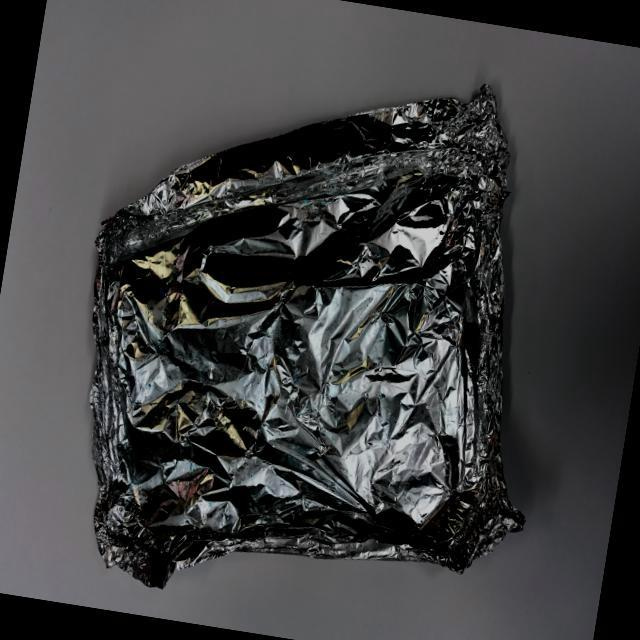metal: (23, 17, 613, 640)
